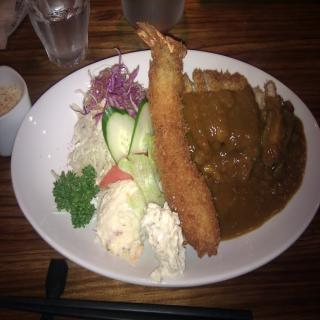Cucumber: (128, 96, 154, 154)
